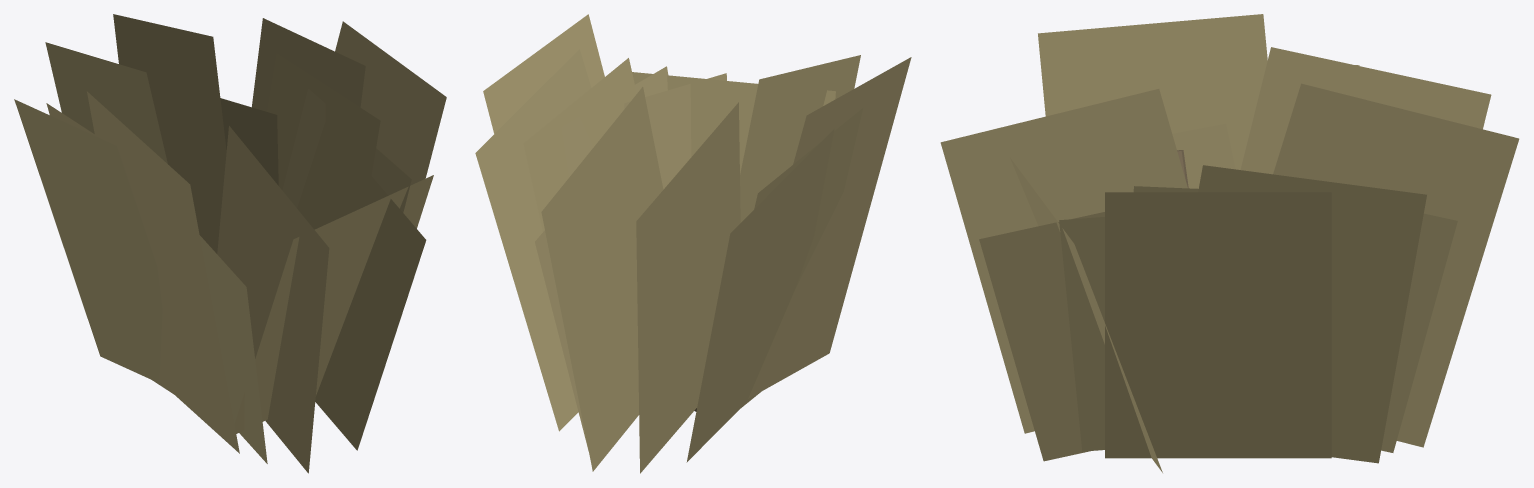
The model's file is bush_b.glb.
3 renders of one model, left to right at view 1: azimuth 30°, elevation 25°; view 2: azimuth 150°, elevation 25°; view 3: azimuth 270°, elevation 25°, orthographic. The views are drawn at different scales.
Visible parts, largest first — view 1: LOD0; view 2: LOD0; view 3: LOD0.
Part boxes in pixels (x1,y1,x2,y2): LOD0: (14, 14, 446, 473); LOD0: (475, 14, 911, 473); LOD0: (940, 14, 1519, 472).
Bounding box in the file's own units: 1.04 × 1.18 × 1.66.
